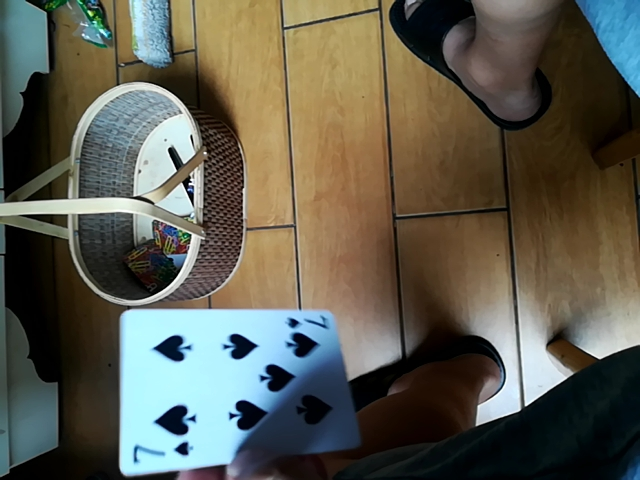ht 7: (119, 309, 354, 476)
